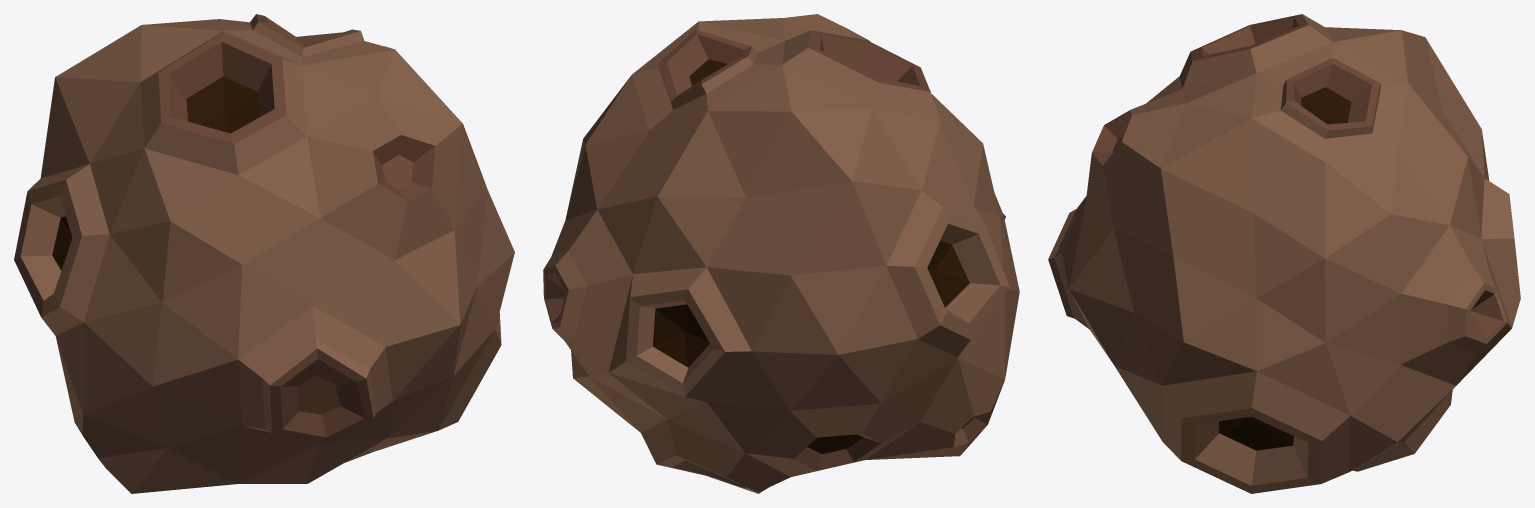
The model's file is Asteroid_01.fbx.
The picture shows the model from 3 angles, left to right: view 1: azimuth 30°, elevation 25°; view 2: azimuth 150°, elevation 25°; view 3: azimuth 270°, elevation 25°; orthographic projection. The views are drawn at different scales.
Parts seen in each view (by area): view 1: Asteriod; view 2: Asteriod; view 3: Asteriod.
Part boxes in pixels (bbox=[...]): Asteriod: bbox=[14, 14, 514, 493]; Asteriod: bbox=[543, 14, 1019, 493]; Asteriod: bbox=[1048, 14, 1520, 493].
Bounding box in the file's own units: 444 × 450 × 437.
